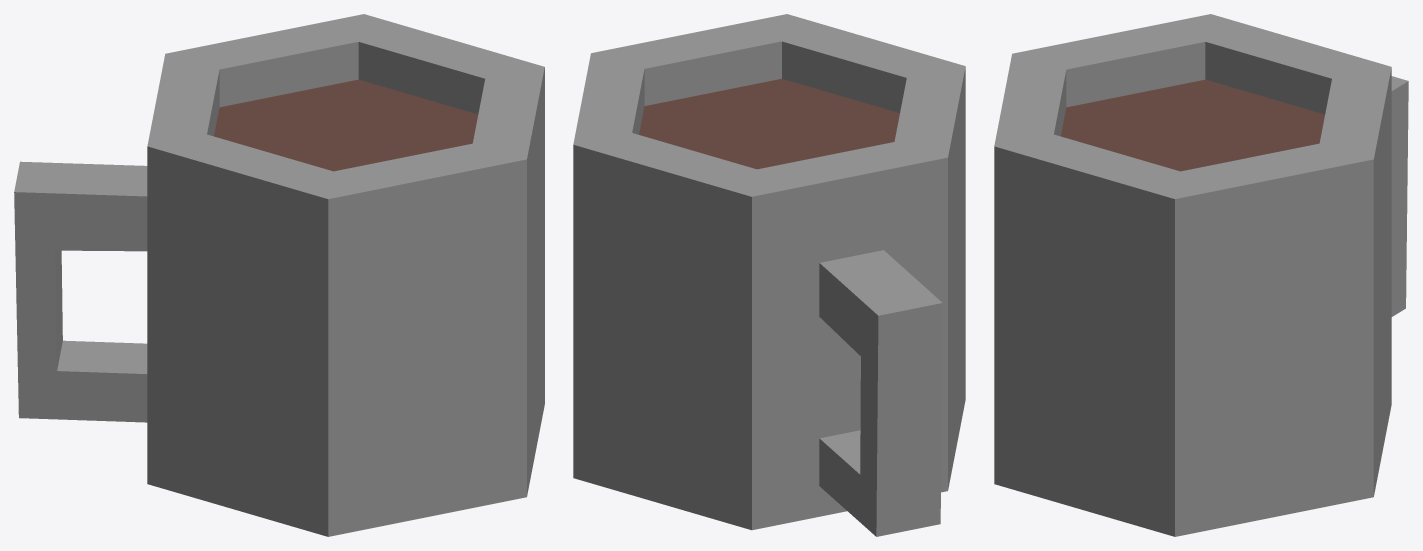
The model's file is coc2.fbx.
3 renders of one model, left to right at view 1: azimuth 30°, elevation 25°; view 2: azimuth 150°, elevation 25°; view 3: azimuth 270°, elevation 25°, orthographic.
Parts seen in each view (by area): view 1: coc2; view 2: coc2; view 3: coc2.
Part boxes in pixels (<box>): coc2: <box>14,14,544,536</box>; coc2: <box>573,14,965,536</box>; coc2: <box>994,14,1408,536</box>.
Bounding box in the file's own units: 30.64 × 22.3 × 24.8.
